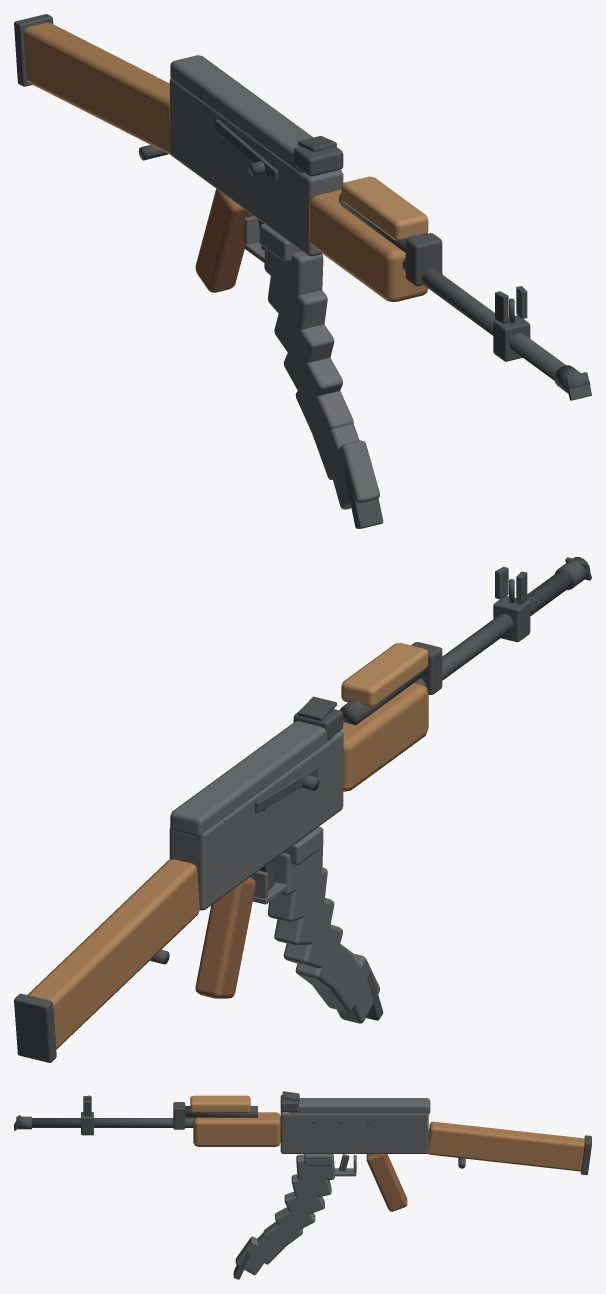
Rendered from akm.glb.
The picture shows the model from 3 angles, top to bottom: view 1: azimuth 30°, elevation 25°; view 2: azimuth 150°, elevation 25°; view 3: azimuth 270°, elevation 25°; orthographic projection. The views are drawn at different scales.
Visible parts, largest first — view 1: akm_receiver, akm_stock, akm_handguard_lo, akm_dust_cover, akm_grip, akm_handguard_up, akm_barrel, akm_mag_6, akm_mag_1, akm_mag_0, akm_mag_2, akm_mag_3 (+9 smaller); view 2: akm_stock, akm_receiver, akm_dust_cover, akm_handguard_lo, akm_grip, akm_handguard_up, akm_barrel, akm_buttplate, akm_mag_1, akm_mag_2, akm_mag_3, akm_mag_0 (+8 smaller); view 3: akm_receiver, akm_stock, akm_handguard_lo, akm_dust_cover, akm_barrel, akm_grip, akm_handguard_up, akm_mag_1, akm_mag_0, akm_mag_2, akm_mag_3, akm_mag_4 (+7 smaller).
Boxes of the visible parts, x1,y1,x2,y2 form: akm_receiver: [169, 78, 343, 256]; akm_stock: [23, 22, 170, 154]; akm_handguard_lo: [309, 189, 428, 301]; akm_dust_cover: [170, 55, 313, 173]; akm_grip: [195, 189, 252, 292]; akm_handguard_up: [341, 176, 428, 241]; akm_barrel: [402, 257, 565, 380]; akm_mag_6: [331, 440, 379, 509]; akm_mag_1: [267, 275, 327, 333]; akm_mag_0: [264, 248, 323, 296]; akm_mag_2: [274, 313, 334, 372]; akm_mag_3: [283, 353, 342, 409]; akm_stock: [27, 859, 199, 1049]; akm_receiver: [169, 731, 343, 910]; akm_dust_cover: [170, 721, 334, 837]; akm_handguard_lo: [340, 683, 428, 791]; akm_grip: [195, 877, 255, 998]; akm_handguard_up: [341, 643, 428, 707]; akm_barrel: [414, 570, 573, 686]; akm_buttplate: [14, 993, 56, 1062]; akm_mag_1: [267, 867, 327, 922]; akm_mag_2: [274, 898, 334, 945]; akm_mag_3: [283, 924, 342, 969]; akm_mag_0: [271, 845, 323, 895]; akm_receiver: [280, 1110, 428, 1153]; akm_stock: [428, 1121, 584, 1171]; akm_handguard_lo: [193, 1112, 280, 1146]; akm_dust_cover: [289, 1098, 430, 1114]; akm_barrel: [32, 1118, 280, 1127]; akm_grip: [366, 1154, 407, 1211]; akm_handguard_up: [190, 1095, 250, 1112]; akm_mag_1: [291, 1174, 331, 1199]; akm_mag_0: [296, 1154, 334, 1180]; akm_mag_2: [284, 1191, 324, 1218]; akm_mag_3: [275, 1207, 315, 1235]; akm_mag_4: [263, 1221, 302, 1250].
Bounding box in the file's own units: 0.0535 × 0.3346 × 0.957.
